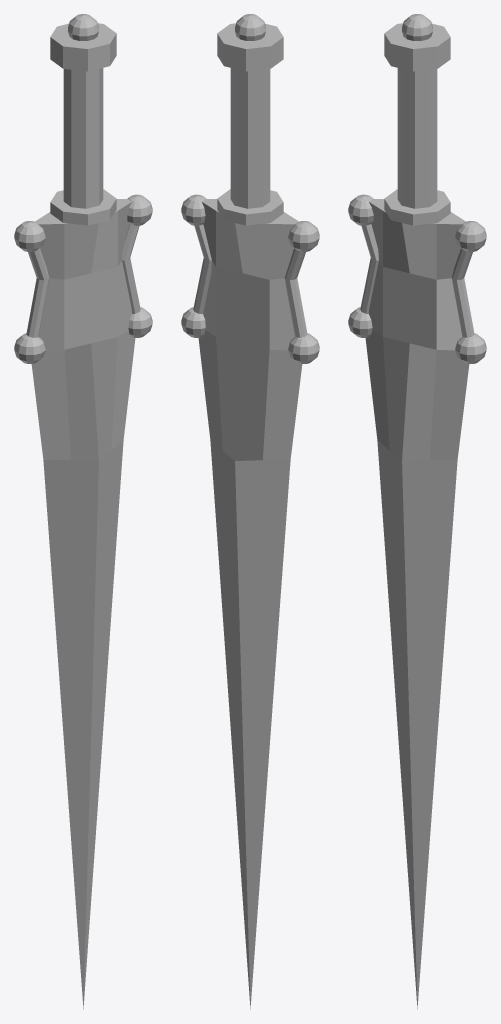
File: sword.obj
3 views of the same model, side by side, from view 1: azimuth 30°, elevation 25°; view 2: azimuth 150°, elevation 25°; view 3: azimuth 330°, elevation 25° (orthographic).
Visible parts, largest first — view 1: cube, cylinder, sphere; view 2: cube, cylinder, sphere; view 3: cube, cylinder, sphere.
Part boxes in pixels (x1,y1,x2,y2): cube: (31, 198, 135, 1009); cylinder: (26, 23, 140, 337); sphere: (14, 14, 152, 363); cube: (198, 198, 302, 1009); cylinder: (193, 23, 307, 337); sphere: (181, 14, 319, 363); cube: (365, 198, 469, 1009); cylinder: (360, 23, 474, 337); sphere: (348, 14, 486, 363).
Bounding box in the file's own units: 0.0783 × 0.5548 × 0.0312.
Materials: 3 (3 with a texture image).
